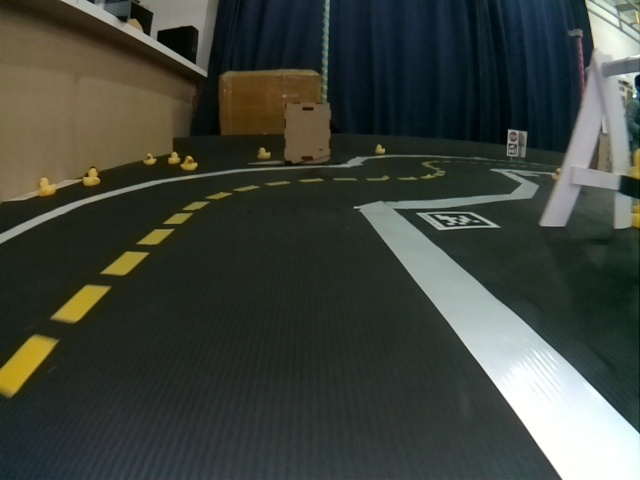Duckie: (83, 168, 100, 186), (39, 178, 54, 196), (182, 157, 197, 170), (168, 152, 180, 164), (143, 153, 155, 165), (258, 147, 270, 158), (552, 168, 561, 179), (375, 145, 385, 154)
QR code: (417, 211, 500, 230), (508, 143, 518, 155)
Stop sign: (508, 131, 518, 142)
